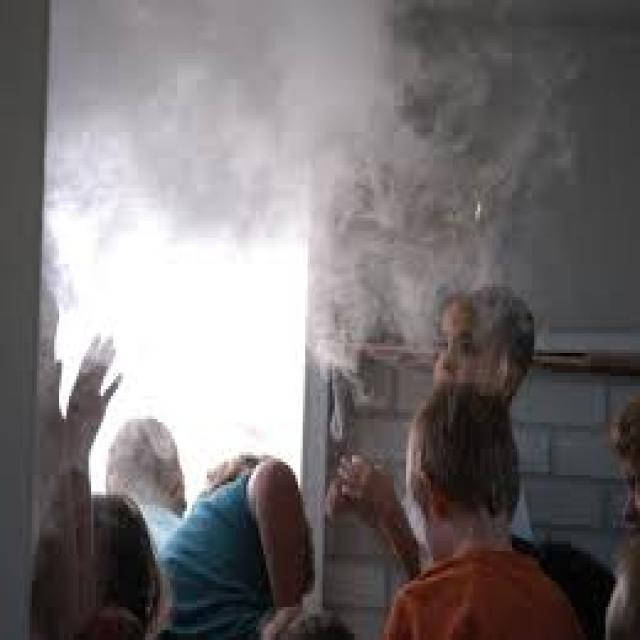Smoke: (36, 0, 592, 367)
